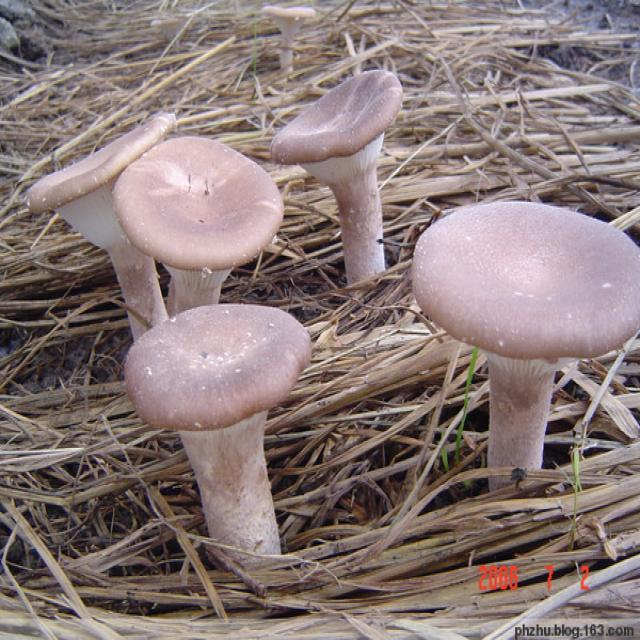Clitocybe maxima: (416, 199, 640, 473), (122, 303, 308, 573), (27, 114, 281, 303), (276, 73, 404, 278)
